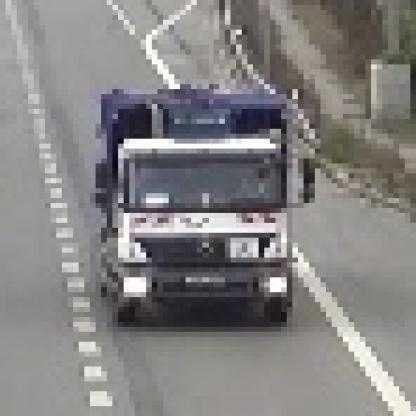truck: (85, 80, 316, 313)
